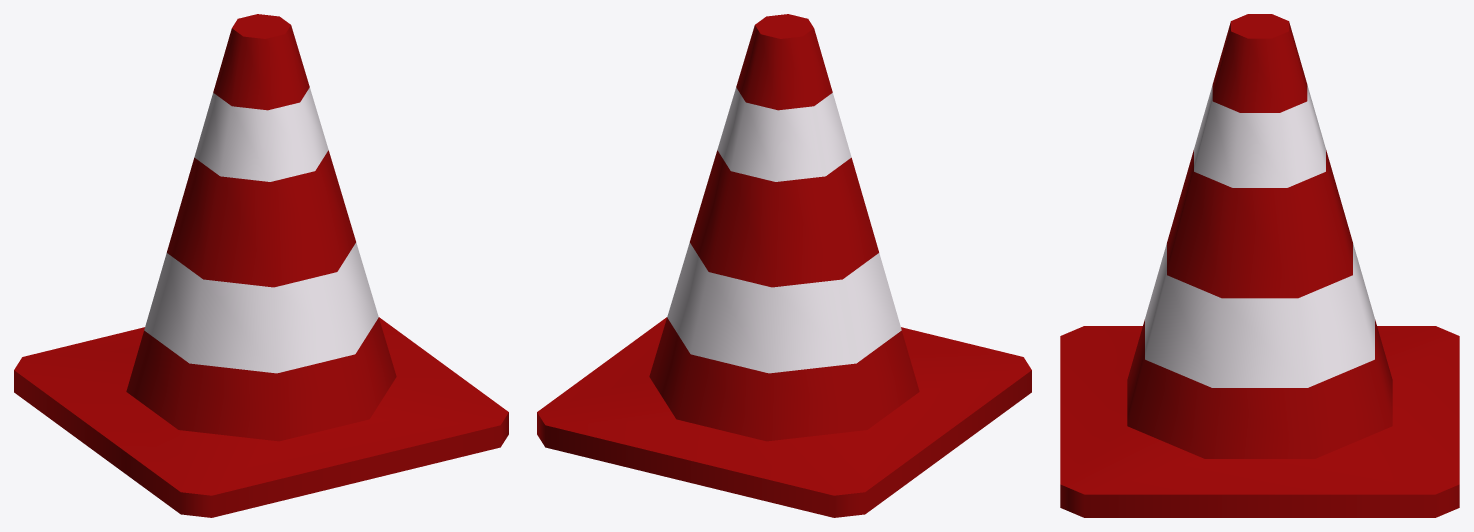
The model's file is TrafficCone.fbx.
3 views of the same model, side by side, from view 1: azimuth 30°, elevation 25°; view 2: azimuth 150°, elevation 25°; view 3: azimuth 270°, elevation 25° (orthographic). The views are drawn at different scales.
Parts seen in each view (by area): view 1: TrafficCone; view 2: TrafficCone; view 3: TrafficCone.
Part boxes in pixels (x1,y1,x2,y2): TrafficCone: (14,14,508,517); TrafficCone: (537,14,1031,517); TrafficCone: (1060,14,1459,517).
Size of the model in its own units: 53.26 by 60 by 53.26.
